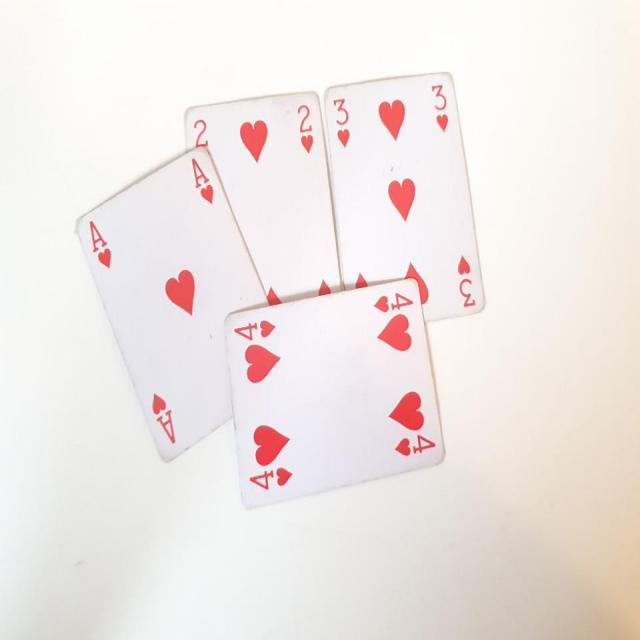2 Hearts: (177, 87, 345, 320)
3 Hearts: (328, 67, 492, 329)
4 Hearts: (225, 273, 451, 516)
A Hearts: (72, 138, 280, 468)
